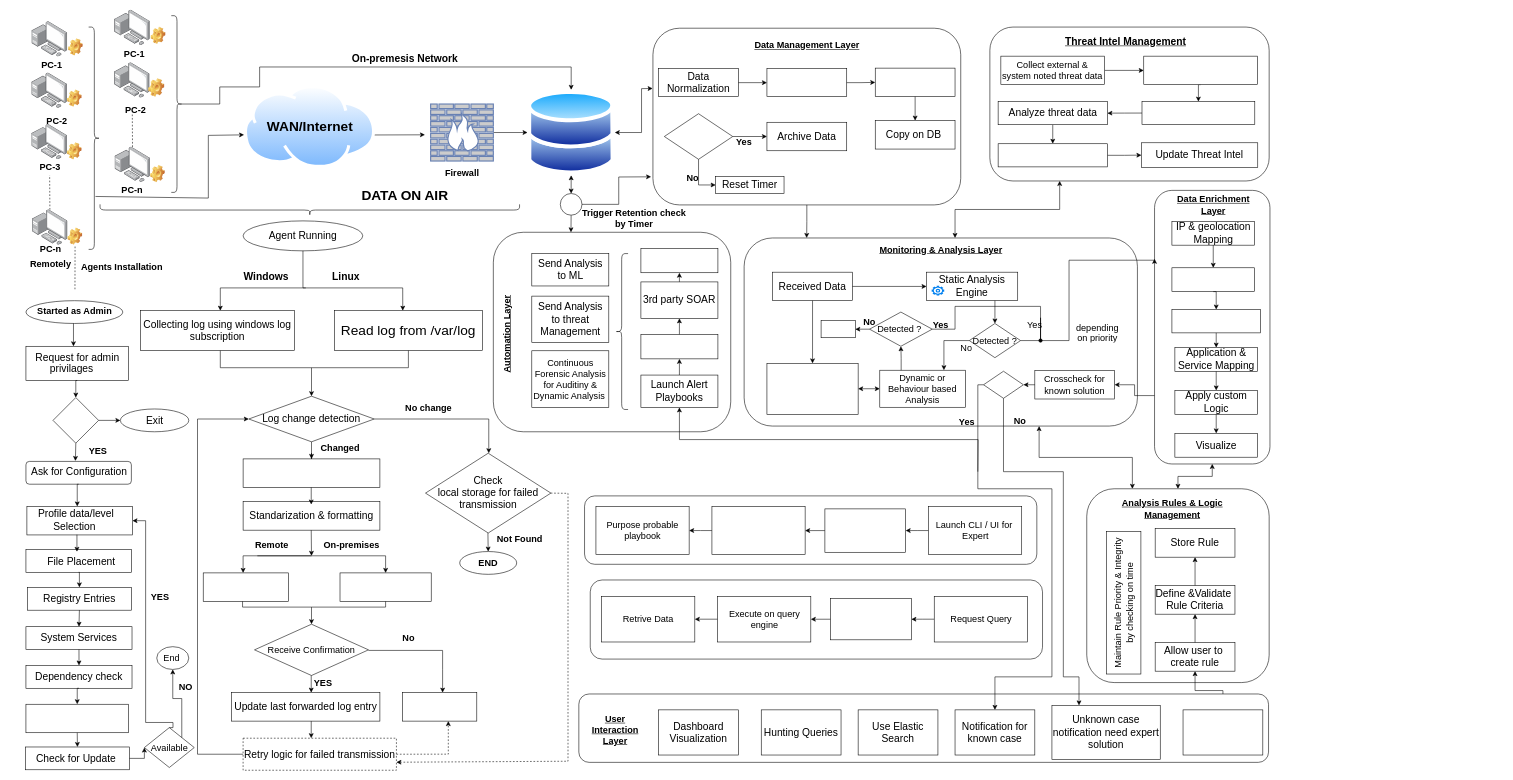
Some shapes in this 1513 by 780 pixel diagram are drawn without their labels. The shapes that lost their labels are listed below. From the top down, each one's centre as x and y in pixels, then its label:
At pixel 806 82: "Data Aggregation".
At pixel 915 82: "Data Correction/ Analysis".
At pixel 1200 70: "Process normalize & standardise".
At pixel 571 132: "RAID STORAGE".
At pixel 1198 113: "Identify Relevent Threats".
At pixel 698 136: "Retention Conditions".
At pixel 1052 155: "Correlate with existing Threat Intel".
At pixel 679 260: "Store Report".
At pixel 1213 279: "Get user & device context".
At pixel 838 329: "Move".
At pixel 1215 321: "Get Possible Vulnerability data".
At pixel 679 346: "Logic Check".
At pixel 812 389: "Needed Info Saved For Audit & Dynamic Analysis".
At pixel 1003 384: "Found?".
At pixel 75 420: "Granted".
At pixel 311 472: "Incremental gathering".
At pixel 758 530: "Send data to ML & Threat Intel".
At pixel 865 530: "Store Procedure".
At pixel 246 586: "Transmission with TCP & TLS".
At pixel 385 586: "Transmission".
At pixel 870 619: "Parse & Validate".
At pixel 77 718: "Persistance Confirmation".
At pixel 439 706: "Save in local file".
At pixel 1222 732: "Create analysis rules and logins".
